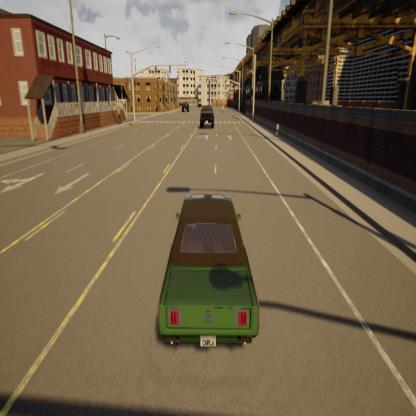Cars: (139, 179, 266, 366), (196, 103, 216, 129), (180, 99, 191, 114)
Pedestrian: (272, 118, 282, 140)
